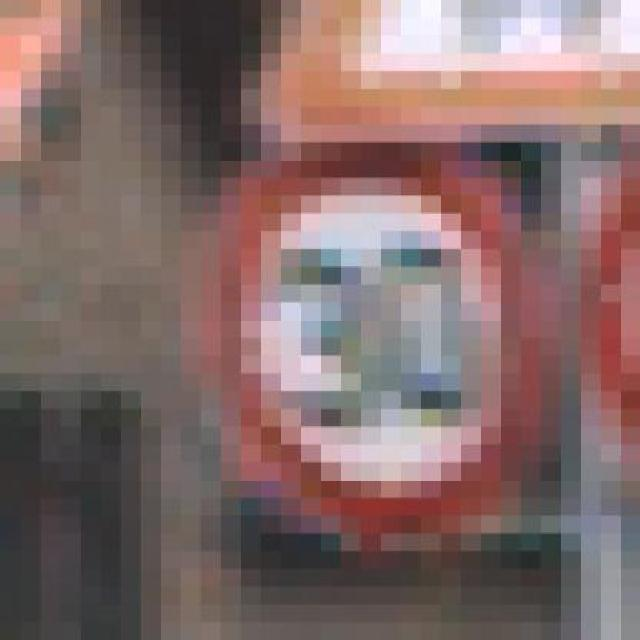Speed Limit 30 KMPh: (120, 106, 620, 605)
